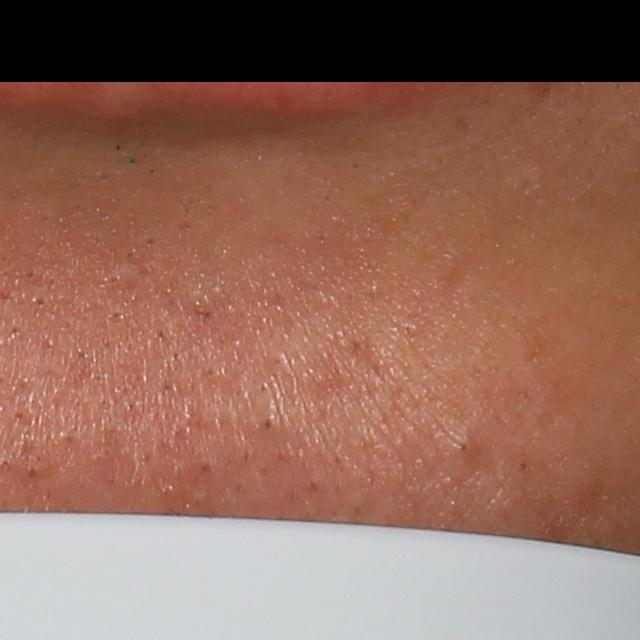comedo: (258, 411, 280, 436)
